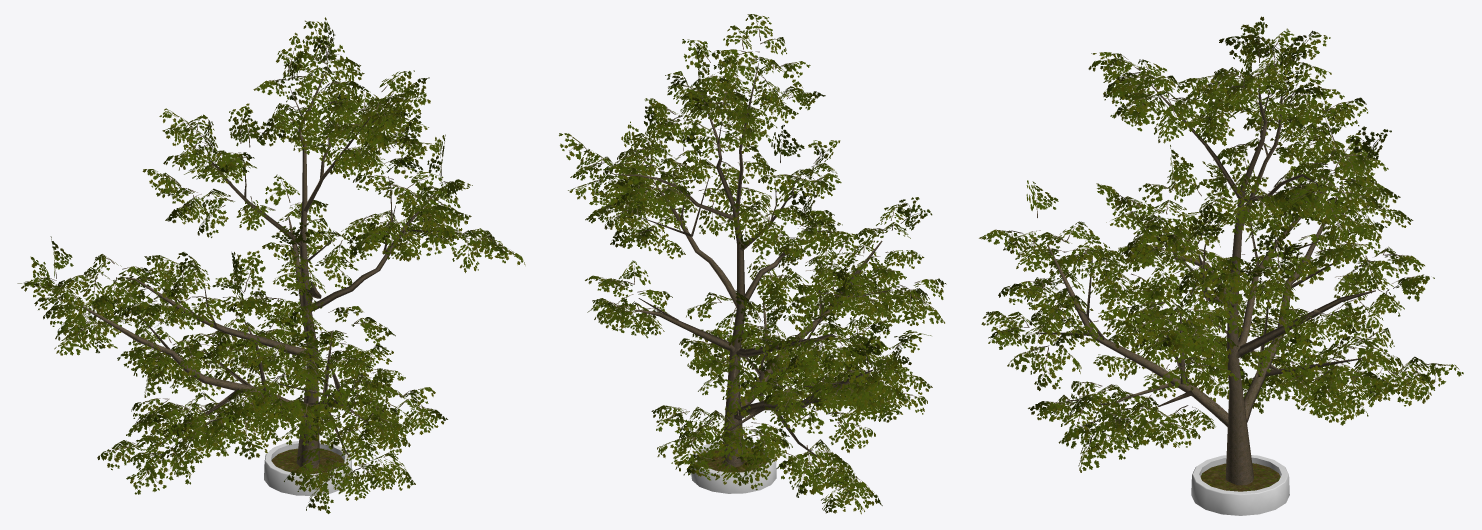
Rendered from nc_tree_03.fbx.
3 views of the same model, side by side, from view 1: azimuth 30°, elevation 25°; view 2: azimuth 150°, elevation 25°; view 3: azimuth 270°, elevation 25° (orthographic). The views are drawn at different scales.
Parts seen in each view (by area): view 1: nc_tree_03_LOD0; view 2: nc_tree_03_LOD0; view 3: nc_tree_03_LOD0.
Boxes of the visible parts, x1=… form: nc_tree_03_LOD0: x1=17, y1=17, x2=525, y2=513; nc_tree_03_LOD0: x1=559, y1=14, x2=946, y2=514; nc_tree_03_LOD0: x1=979, y1=16, x2=1463, y2=515.
Size of what is drawn, in the model's own units: 5.37 by 5.54 by 4.96.
